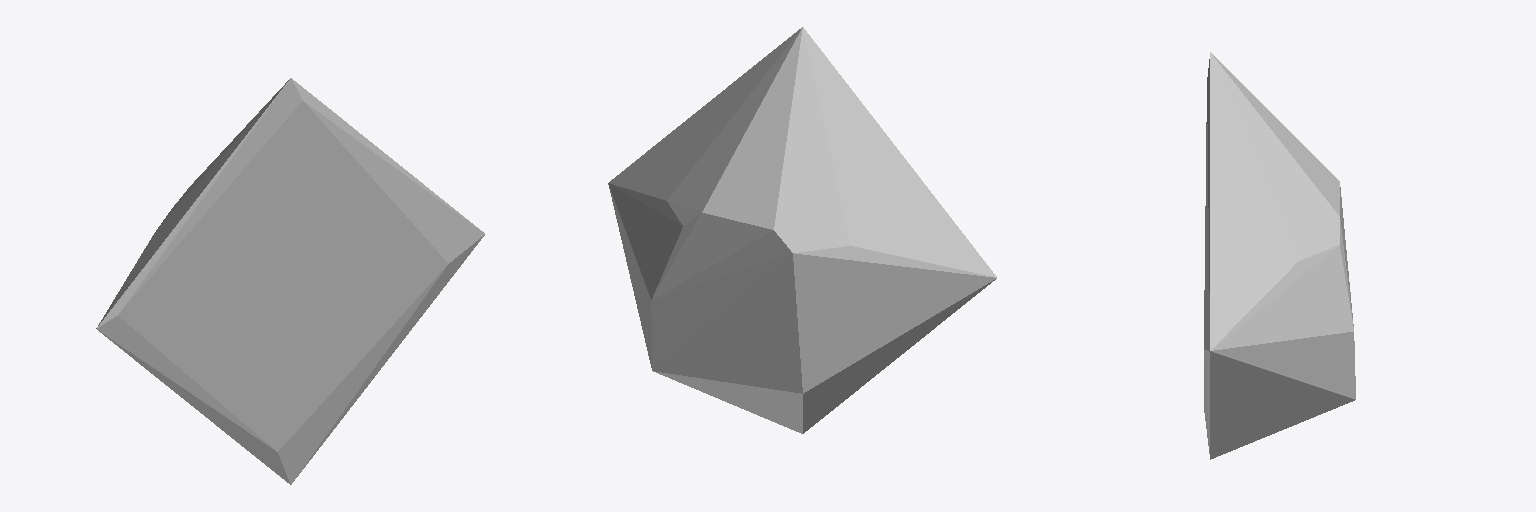
The model's file is airplane_001_collision_2.obj.
3 views of the same model, side by side, from view 1: azimuth 30°, elevation 25°; view 2: azimuth 150°, elevation 25°; view 3: azimuth 270°, elevation 25° (orthographic).
Size of the model in its own units: 1.4 by 1.4 by 0.4738.